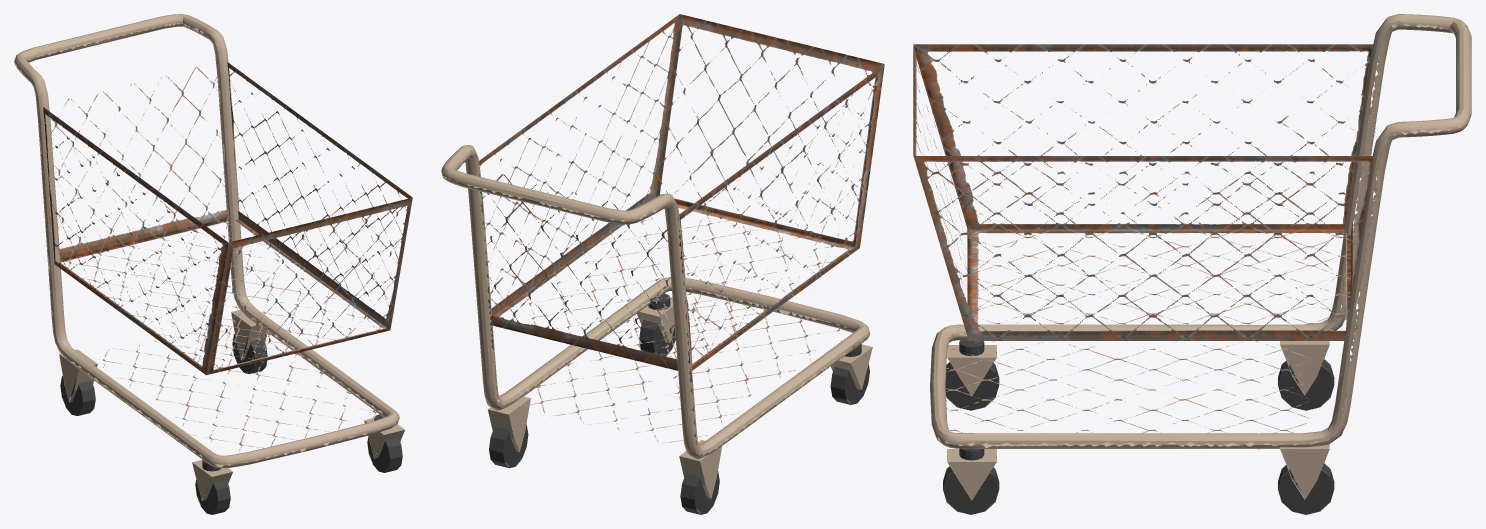
File: ShoppingCart.fbx
The picture shows the model from 3 angles, left to right: view 1: azimuth 30°, elevation 25°; view 2: azimuth 150°, elevation 25°; view 3: azimuth 270°, elevation 25°; orthographic projection. The views are drawn at different scales.
Parts seen in each view (by area): view 1: polySurface21; view 2: polySurface21; view 3: polySurface21.
Part boxes in pixels (bbox=[...]): polySurface21: bbox=[14, 14, 412, 514]; polySurface21: bbox=[441, 14, 884, 514]; polySurface21: bbox=[913, 14, 1471, 514].
Size of the model in its own units: 3.01 by 4.67 by 6.06.
Materials: 1 (1 with a texture image).
